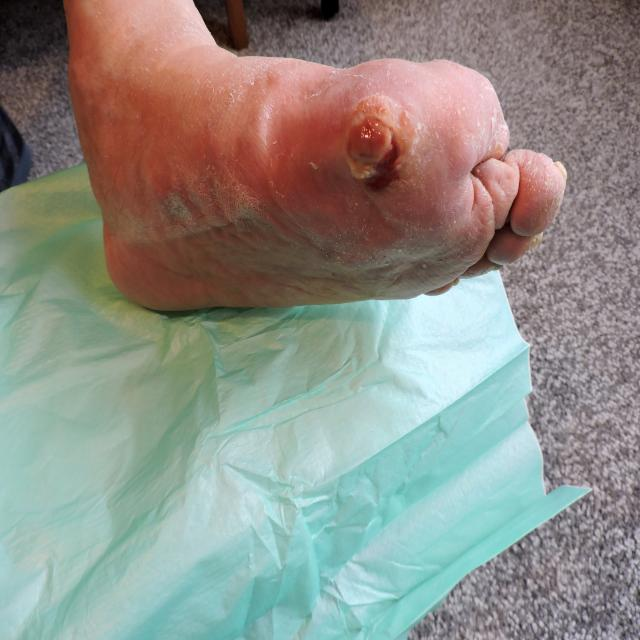wound: (344, 94, 414, 193)
